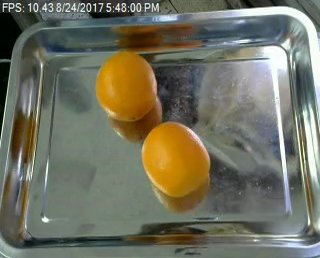Orange: (141, 121, 209, 197), (95, 50, 157, 121)
